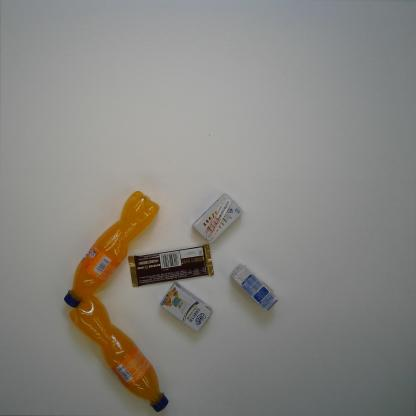Chocolate: (128, 244, 214, 288)
Drink: (67, 293, 168, 412), (64, 190, 160, 308)
Milk: (191, 192, 243, 245), (160, 281, 213, 333), (229, 263, 280, 312)
